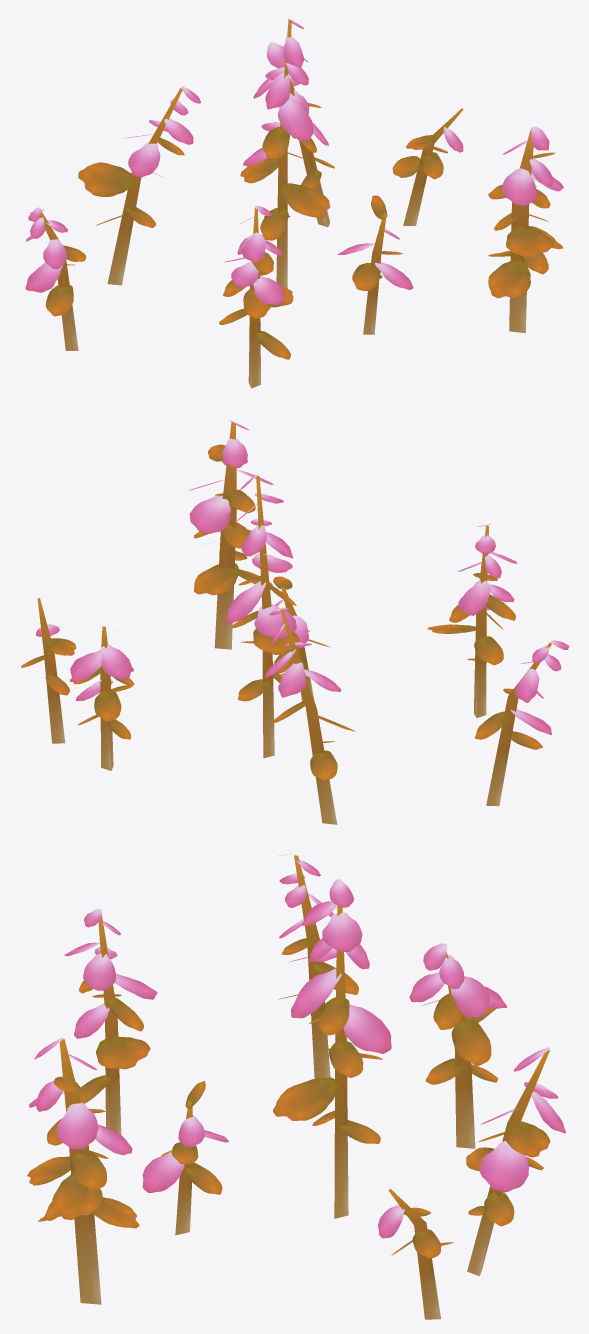
File: P_FlowerDesertPink03.obj
3 renders of one model, top to bottom at view 1: azimuth 30°, elevation 25°; view 2: azimuth 150°, elevation 25°; view 3: azimuth 270°, elevation 25°, orthographic. The views are drawn at different scales.
Size of the model in its own units: 1.51 by 0.8203 by 1.2.
